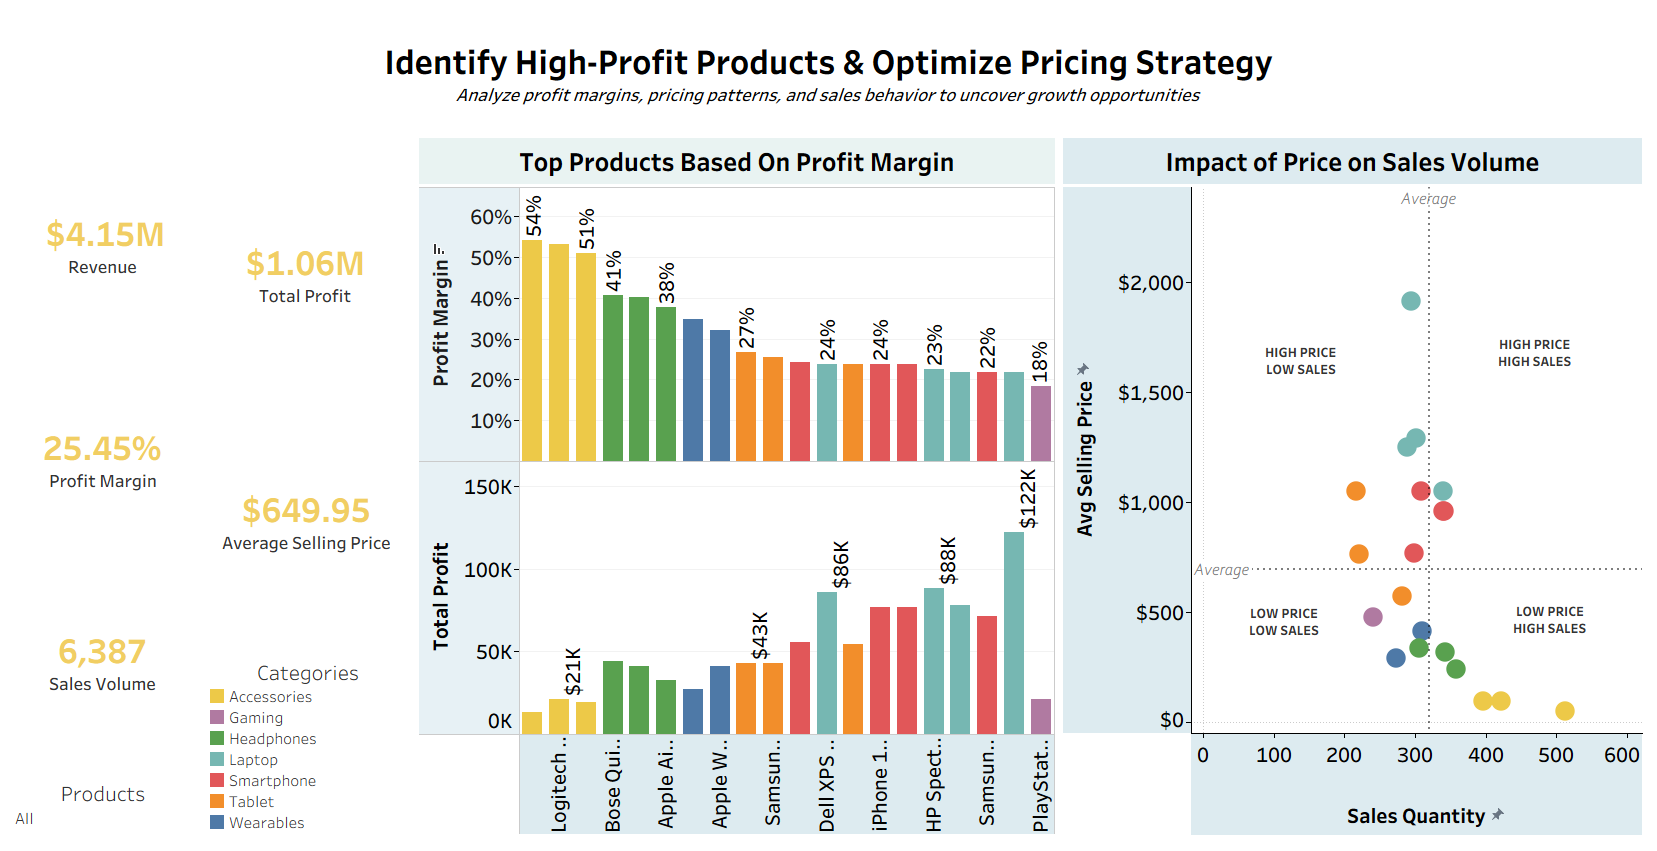

The page's visual inventory and layout, read from the dashboard file:
{"tool":"tableau","page":{"name":"Dashboard 2","canvas":[1000,1000],"units":"permille","ordinal":1},"visuals":[{"type":"text","box":[6,21.1,988,127.8]},{"type":"worksheet","title":"2-1","mark":"Automatic","box":[122.7,156.3,125.1,289.8]},{"type":"worksheet","title":"2.Top Products Based on Profit Margin","mark":"Automatic","rows":["Calculation_0954929785626627","Calculation_1738331855224840"],"cols":["ProductName"],"box":[250.8,157.6,388.7,828.8]},{"type":"worksheet","title":"7.Imapct of Price on Sales Volume","mark":"Circle","rows":["Calculation_1688303735930891"],"cols":["Quantity"],"box":[639.4,157.6,354,828.8]},{"type":"worksheet","title":"2-5","mark":"Automatic","box":[5.4,160.1,113.7,239.1]},{"type":"worksheet","title":"2-2","mark":"Automatic","box":[5.4,399.1,113.7,239.1]},{"type":"worksheet","title":"2-4","mark":"Automatic","box":[122.7,446.1,125.1,288.6]},{"type":"worksheet","title":"2-3","mark":"Automatic","box":[5.4,638.2,113.7,239.1]},{"type":"legend","title":"7.Imapct of Price on Sales Volume","param":"[federated.1gkqmtb0ybhmqn11lutji0awsm6i (copy 2)].[none:Category:nk]","box":[122.7,734.7,125.1,249.1]},{"type":"filter","title":"2.Top Products Based on Profit Margin","param":"[federated.1gkqmtb0ybhmqn11lutji0awsm6i (copy 2)].[none:ProductName:nk]","box":[5.4,877.3,113.7,112.8]}]}

Visuals, with their boxes on the dashboard's canvas, which has no fixed pixel size, in thousandths of its width and height (x1, y1, x2, y2). These are canvas units, not pixel positions in the 1657x851 screenshot, which may show the page scaled, cropped or inside an application window:
text: l=6, t=21, r=994, b=149
"2-1" worksheet: l=123, t=156, r=248, b=446
"2.Top Products Based on Profit Margin" worksheet: l=251, t=158, r=640, b=986
"7.Imapct of Price on Sales Volume" worksheet (Circle marks): l=639, t=158, r=993, b=986
"2-5" worksheet: l=5, t=160, r=119, b=399
"2-2" worksheet: l=5, t=399, r=119, b=638
"2-4" worksheet: l=123, t=446, r=248, b=735
"2-3" worksheet: l=5, t=638, r=119, b=877
"7.Imapct of Price on Sales Volume" legend: l=123, t=735, r=248, b=984
"2.Top Products Based on Profit Margin" filter: l=5, t=877, r=119, b=990
